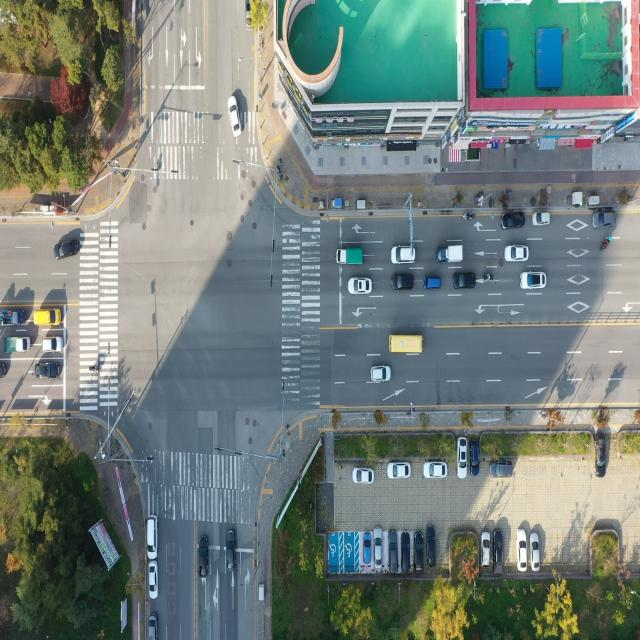car: (146, 518, 158, 562), (34, 309, 62, 327), (230, 95, 242, 136), (494, 529, 505, 573), (55, 241, 79, 261), (520, 273, 546, 291), (426, 526, 437, 568), (200, 535, 210, 579), (425, 461, 449, 479), (35, 362, 60, 379), (388, 532, 398, 574), (226, 531, 236, 573), (415, 532, 425, 574), (392, 246, 415, 264), (490, 463, 513, 481), (458, 439, 468, 480), (518, 531, 528, 572), (596, 434, 608, 468), (401, 532, 411, 572), (389, 461, 411, 479), (502, 212, 524, 230), (506, 246, 529, 263), (594, 211, 617, 228), (533, 534, 543, 573), (375, 531, 385, 570), (349, 279, 371, 296), (392, 275, 414, 292), (148, 564, 158, 600), (454, 274, 476, 290), (470, 440, 480, 474), (353, 468, 374, 484), (483, 534, 492, 570), (372, 365, 391, 382), (45, 338, 65, 354), (363, 532, 372, 564), (532, 212, 550, 226), (148, 615, 157, 640), (424, 278, 441, 291), (244, 0, 251, 29), (0, 362, 7, 379)
small_bus: (388, 335, 423, 356)
small_truck: (438, 244, 464, 264), (338, 248, 366, 266), (6, 336, 32, 354), (0, 309, 25, 327)
